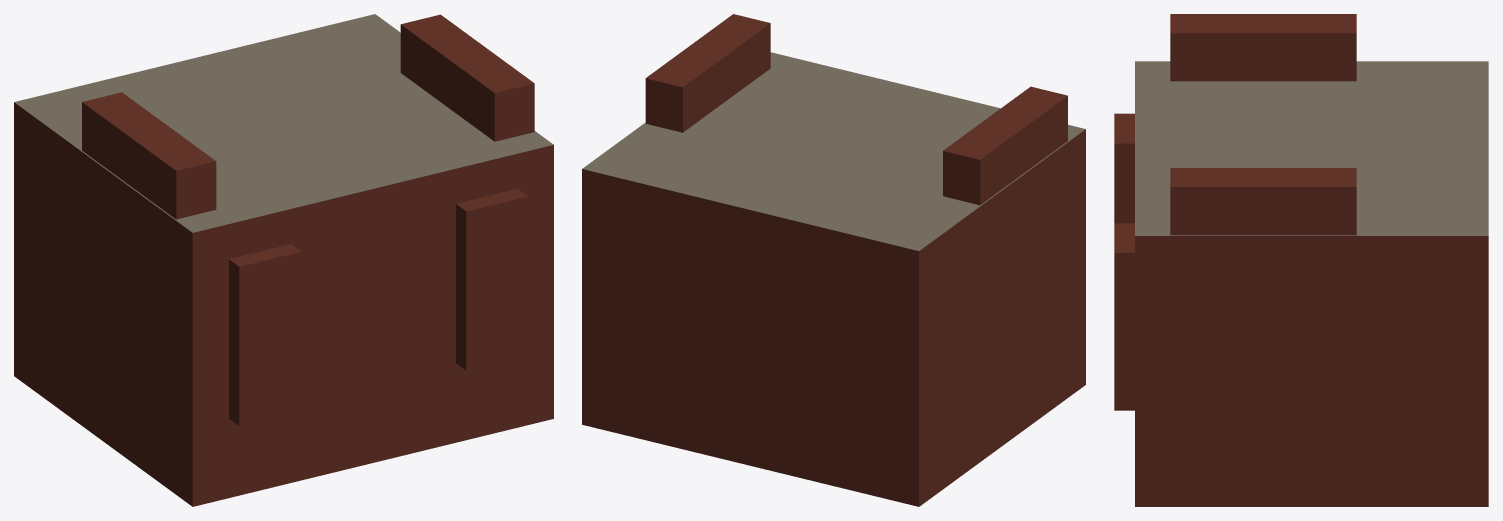
File: ns-rowhouses.towns-v1.lod2.glb
3 renders of one model, left to right at view 1: azimuth 30°, elevation 25°; view 2: azimuth 150°, elevation 25°; view 3: azimuth 270°, elevation 25°, orthographic. The views are drawn at different scales.
Parts seen in each view (by area): view 1: ns-rowhouses; view 2: ns-rowhouses; view 3: ns-rowhouses.
Boxes of the visible parts, x1,y1,x2,y2 form: ns-rowhouses: [14, 14, 553, 506]; ns-rowhouses: [582, 14, 1085, 506]; ns-rowhouses: [1114, 14, 1488, 506].
Size of the model in its own units: 14 by 11.95 by 12.7.
